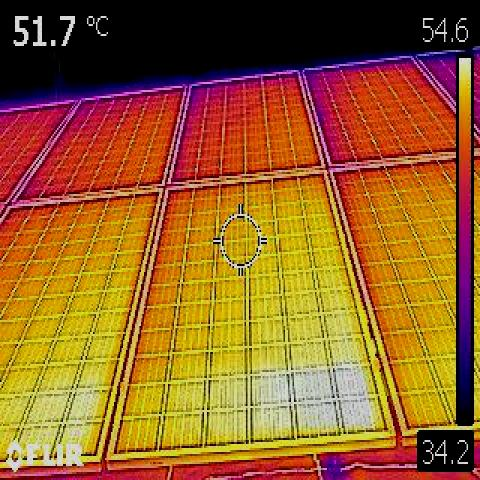fault: (302, 369, 370, 429)
